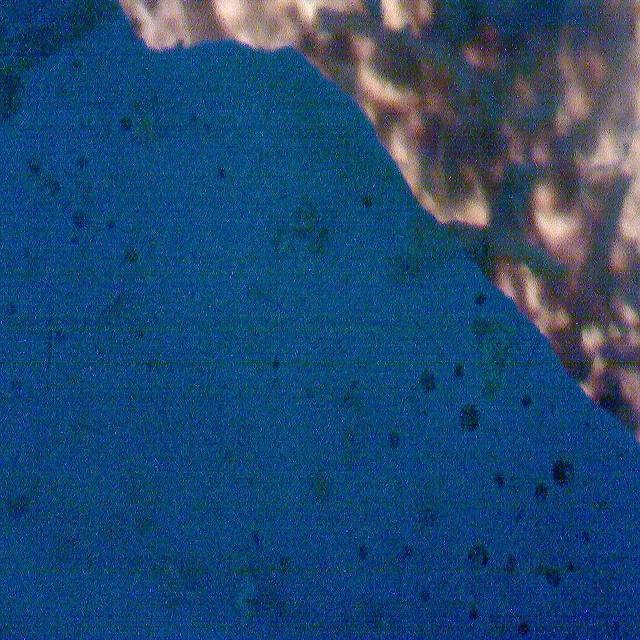microplastic: (0, 1, 640, 640)
